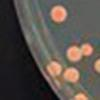pink: (46, 4, 70, 26), (44, 59, 63, 80), (61, 66, 82, 84), (66, 43, 83, 64), (80, 41, 94, 57), (71, 90, 90, 100), (92, 56, 100, 76)
